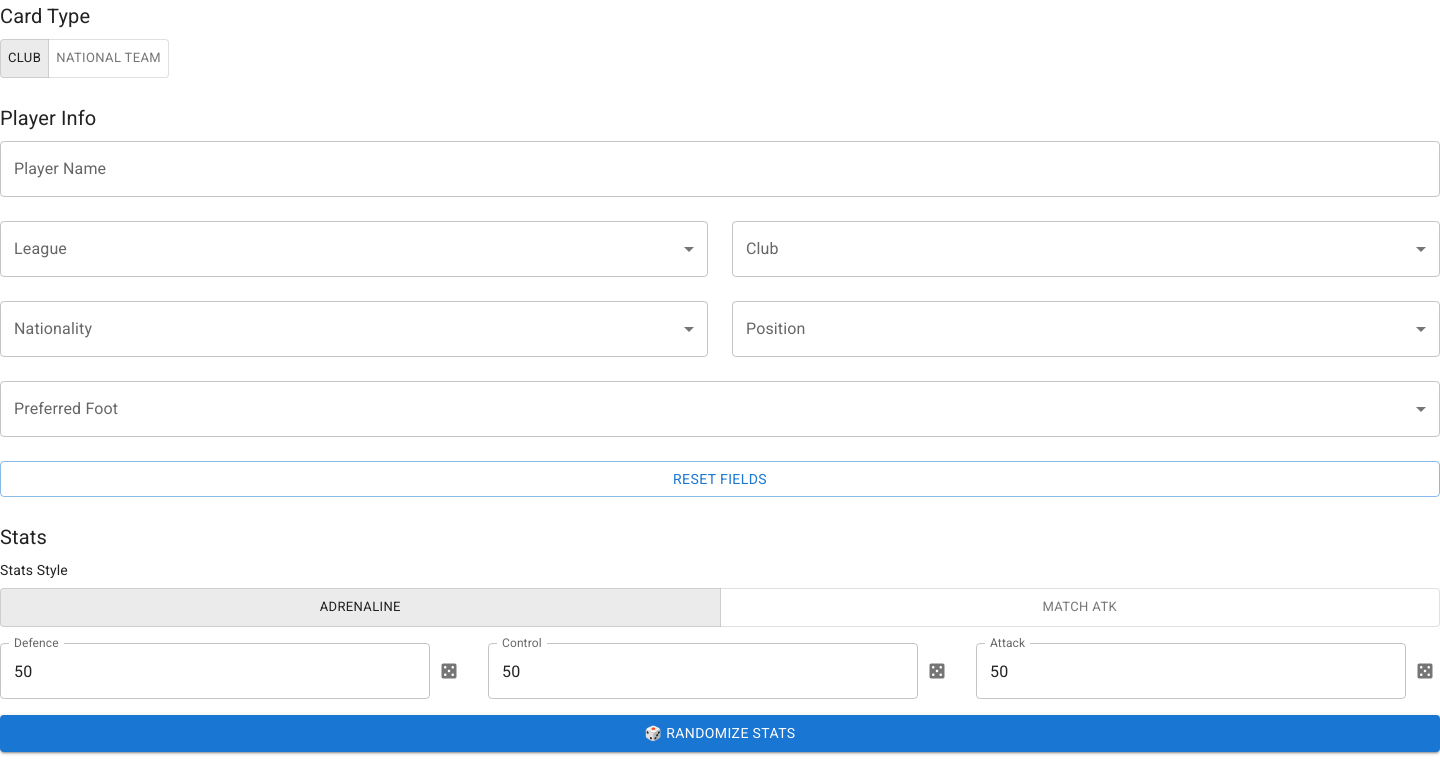
Test case: Nationality flag display mode › display mode toggle appears after a nationality is selected
Press the mouse on the dropdown named "Nationality" at (354, 329), box [0, 301, 708, 357]
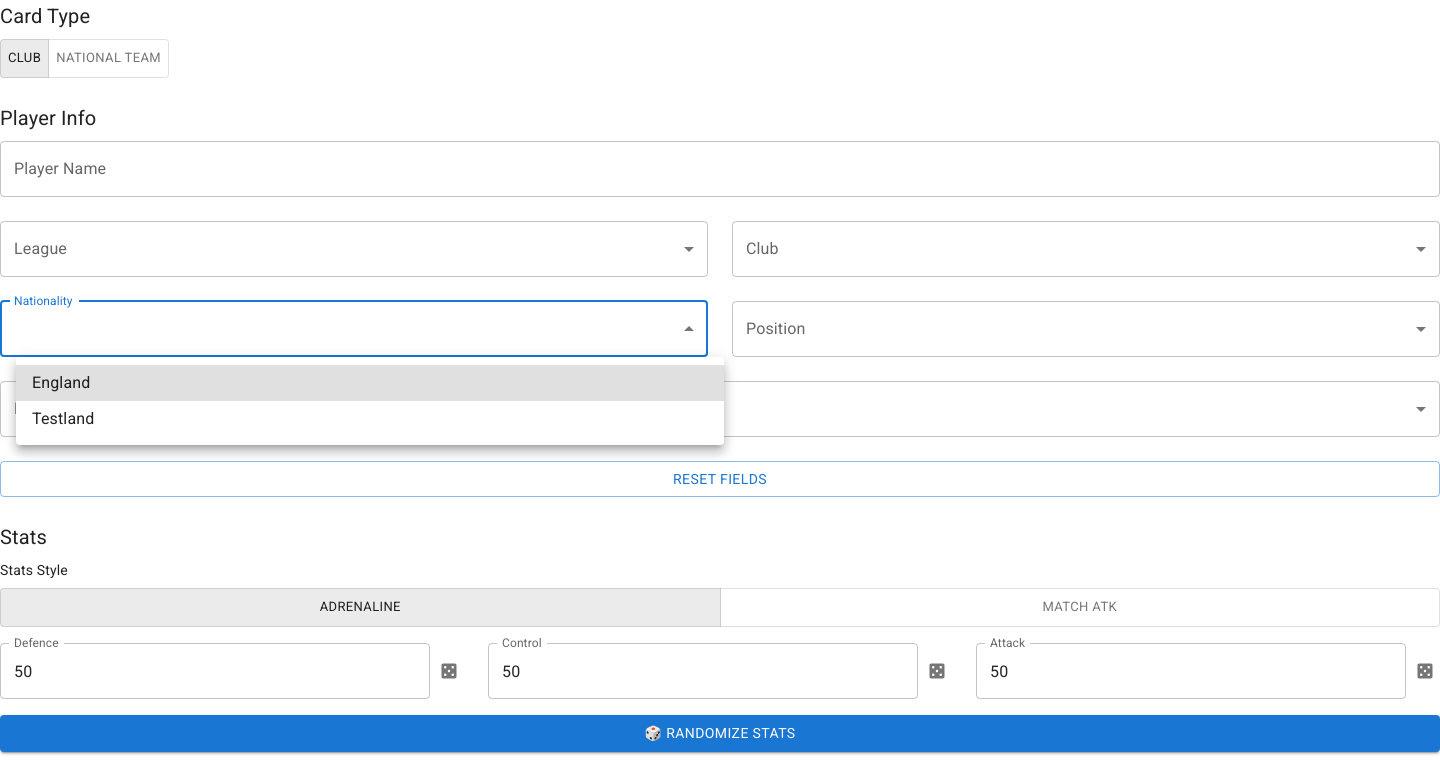
Click the option "England" at (61, 382), box [16, 365, 724, 401]
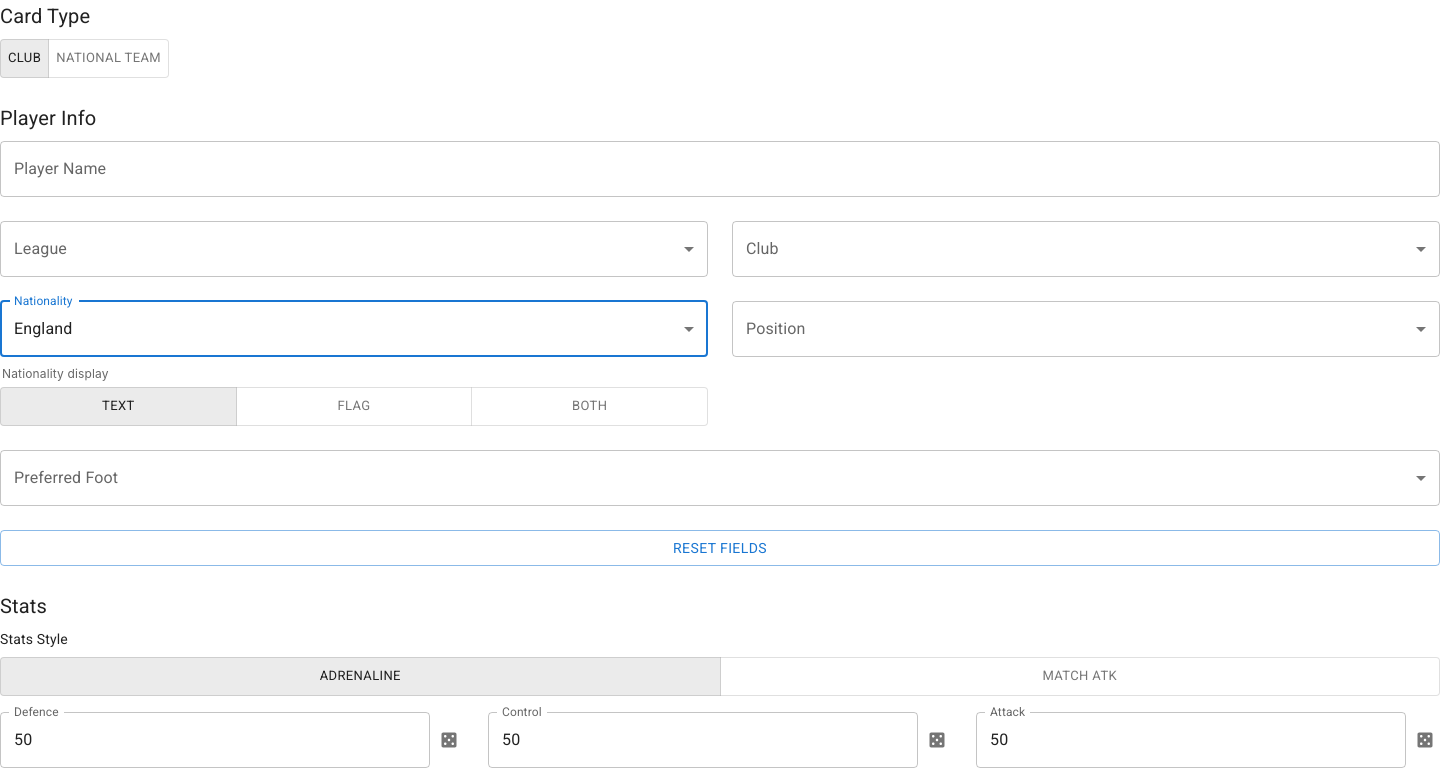
Now the element with test id "nationality-display-selector" is shown, box [0, 387, 708, 426]
